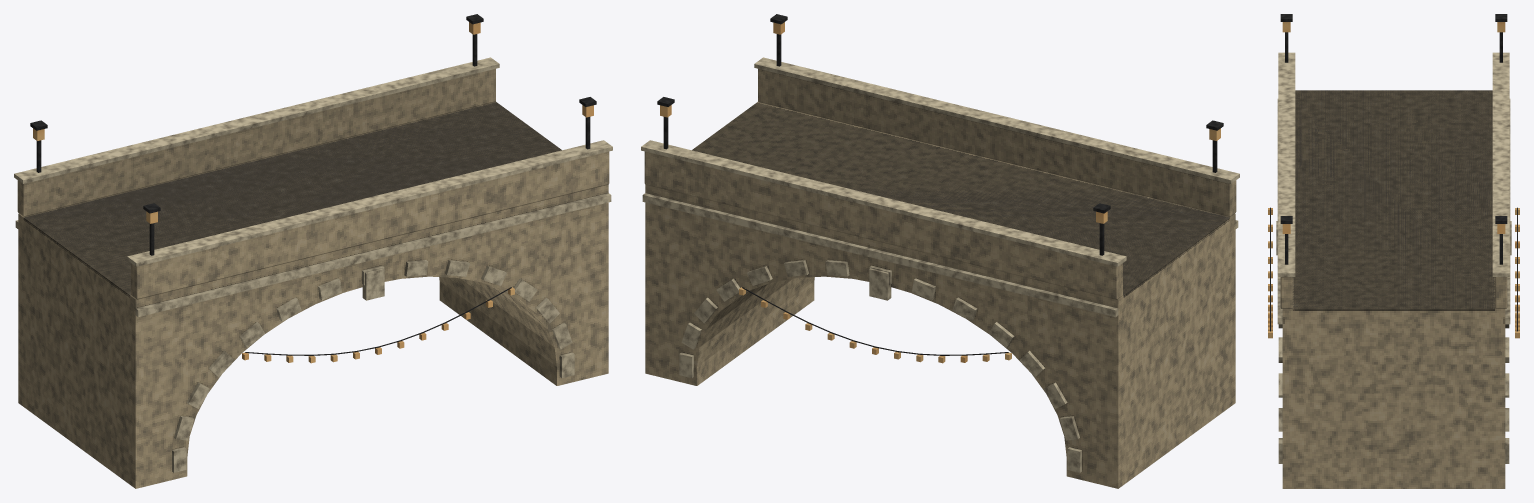
Rendered from siracusa_arch.glb.
3 views of the same model, side by side, from view 1: azimuth 30°, elevation 25°; view 2: azimuth 150°, elevation 25°; view 3: azimuth 270°, elevation 25° (orthographic). The views are drawn at different scales.
Parts seen in each view (by area): view 1: siracusa_arch; view 2: siracusa_arch; view 3: siracusa_arch.
Part boxes in pixels (left/top/right/bottom): siracusa_arch: left=14, top=14, right=612, bottom=488; siracusa_arch: left=641, top=14, right=1239, bottom=488; siracusa_arch: left=1268, top=14, right=1519, bottom=488.
Bounding box in the file's own units: 12.9 × 7.14 × 6.22.
5 materials, 5 textured.
